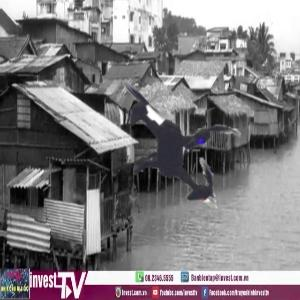drone: (54, 19, 297, 262)
